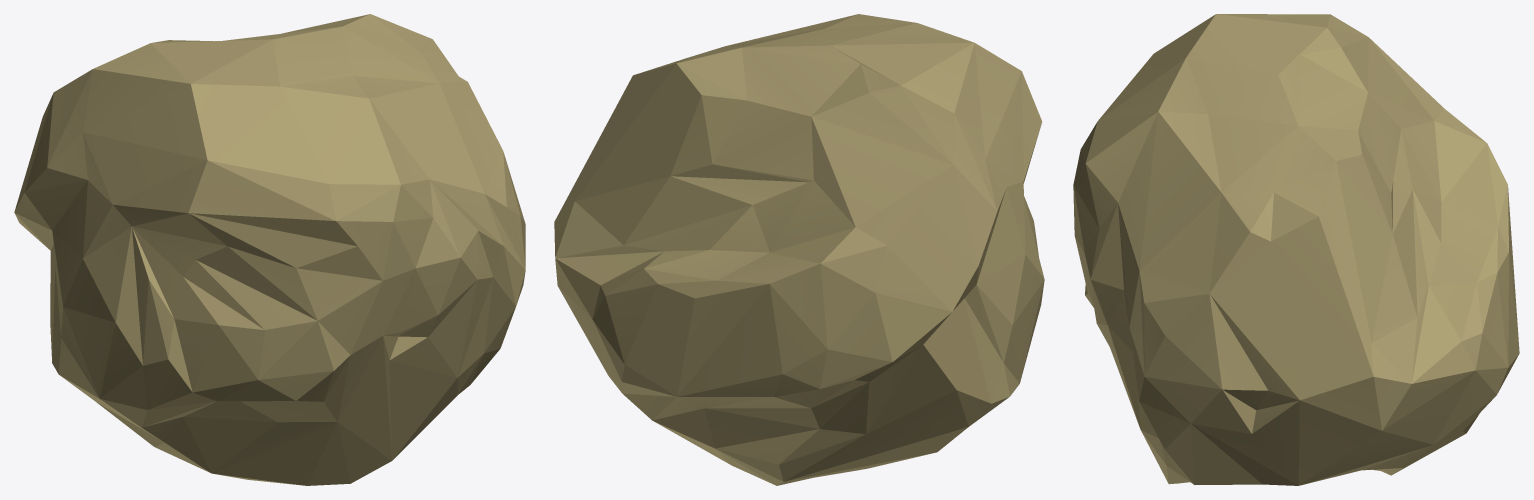
Rendered from SM_rock_84.fbx.
3 renders of one model, left to right at view 1: azimuth 30°, elevation 25°; view 2: azimuth 150°, elevation 25°; view 3: azimuth 270°, elevation 25°, orthographic. The views are drawn at different scales.
Visible parts, largest first — view 1: rock_84; view 2: rock_84; view 3: rock_84.
Part boxes in pixels (x1,y1,x2,y2): rock_84: [14, 14, 525, 485]; rock_84: [554, 14, 1044, 485]; rock_84: [1073, 14, 1519, 485].
Bounding box in the file's own units: 209 × 201 × 194.
